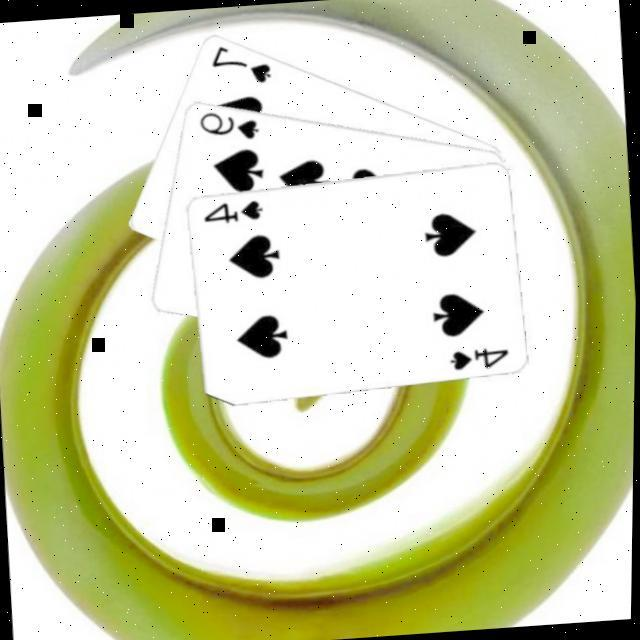4S: (199, 192, 267, 225), (446, 339, 514, 372)
7S: (208, 37, 276, 87)
9S: (196, 102, 264, 143)
